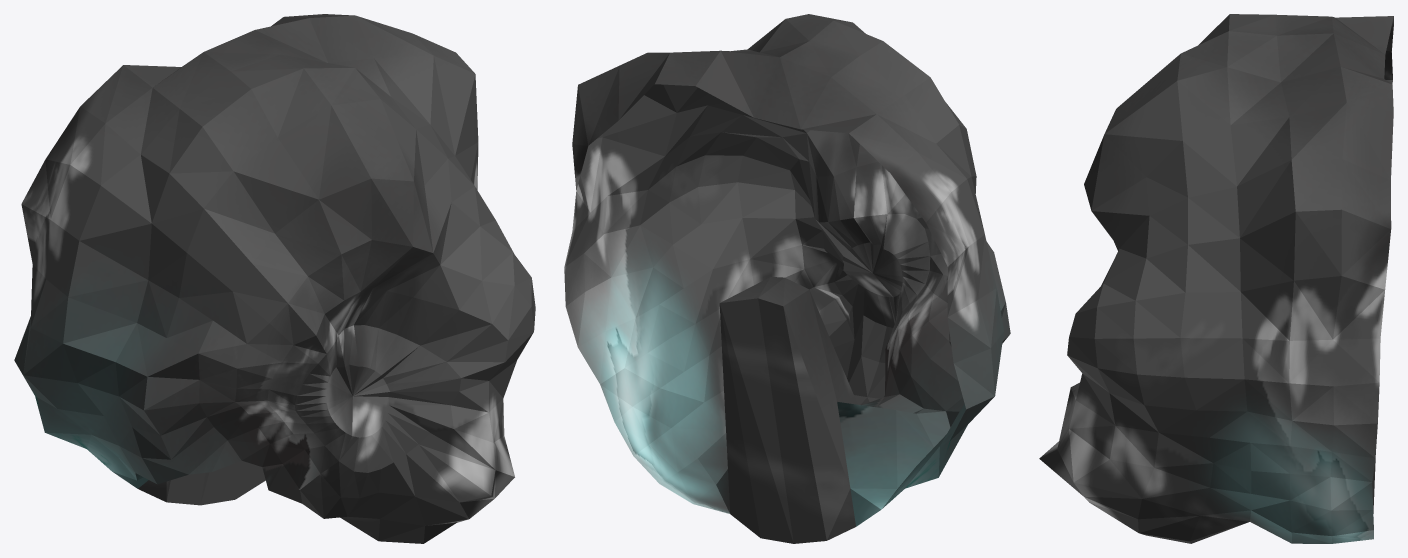
Rendered from ColdfireCavern.obj.
3 views of the same model, side by side, from view 1: azimuth 30°, elevation 25°; view 2: azimuth 150°, elevation 25°; view 3: azimuth 270°, elevation 25° (orthographic). The views are drawn at different scales.
Visible parts, largest first — view 1: Cube; view 2: Cube; view 3: Cube.
Part boxes in pixels (<box>): Cube: <box>14,14,535,543</box>; Cube: <box>564,14,1010,543</box>; Cube: <box>1039,14,1393,543</box>.
Size of the model in its own units: 7.47 by 7.89 by 5.22.
